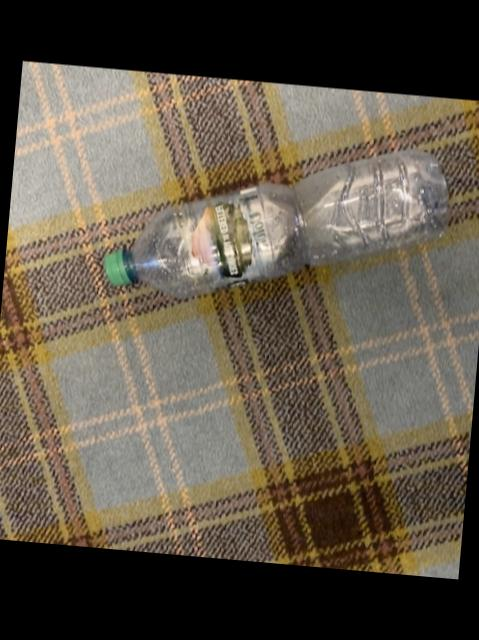plastic: (102, 148, 446, 295)
